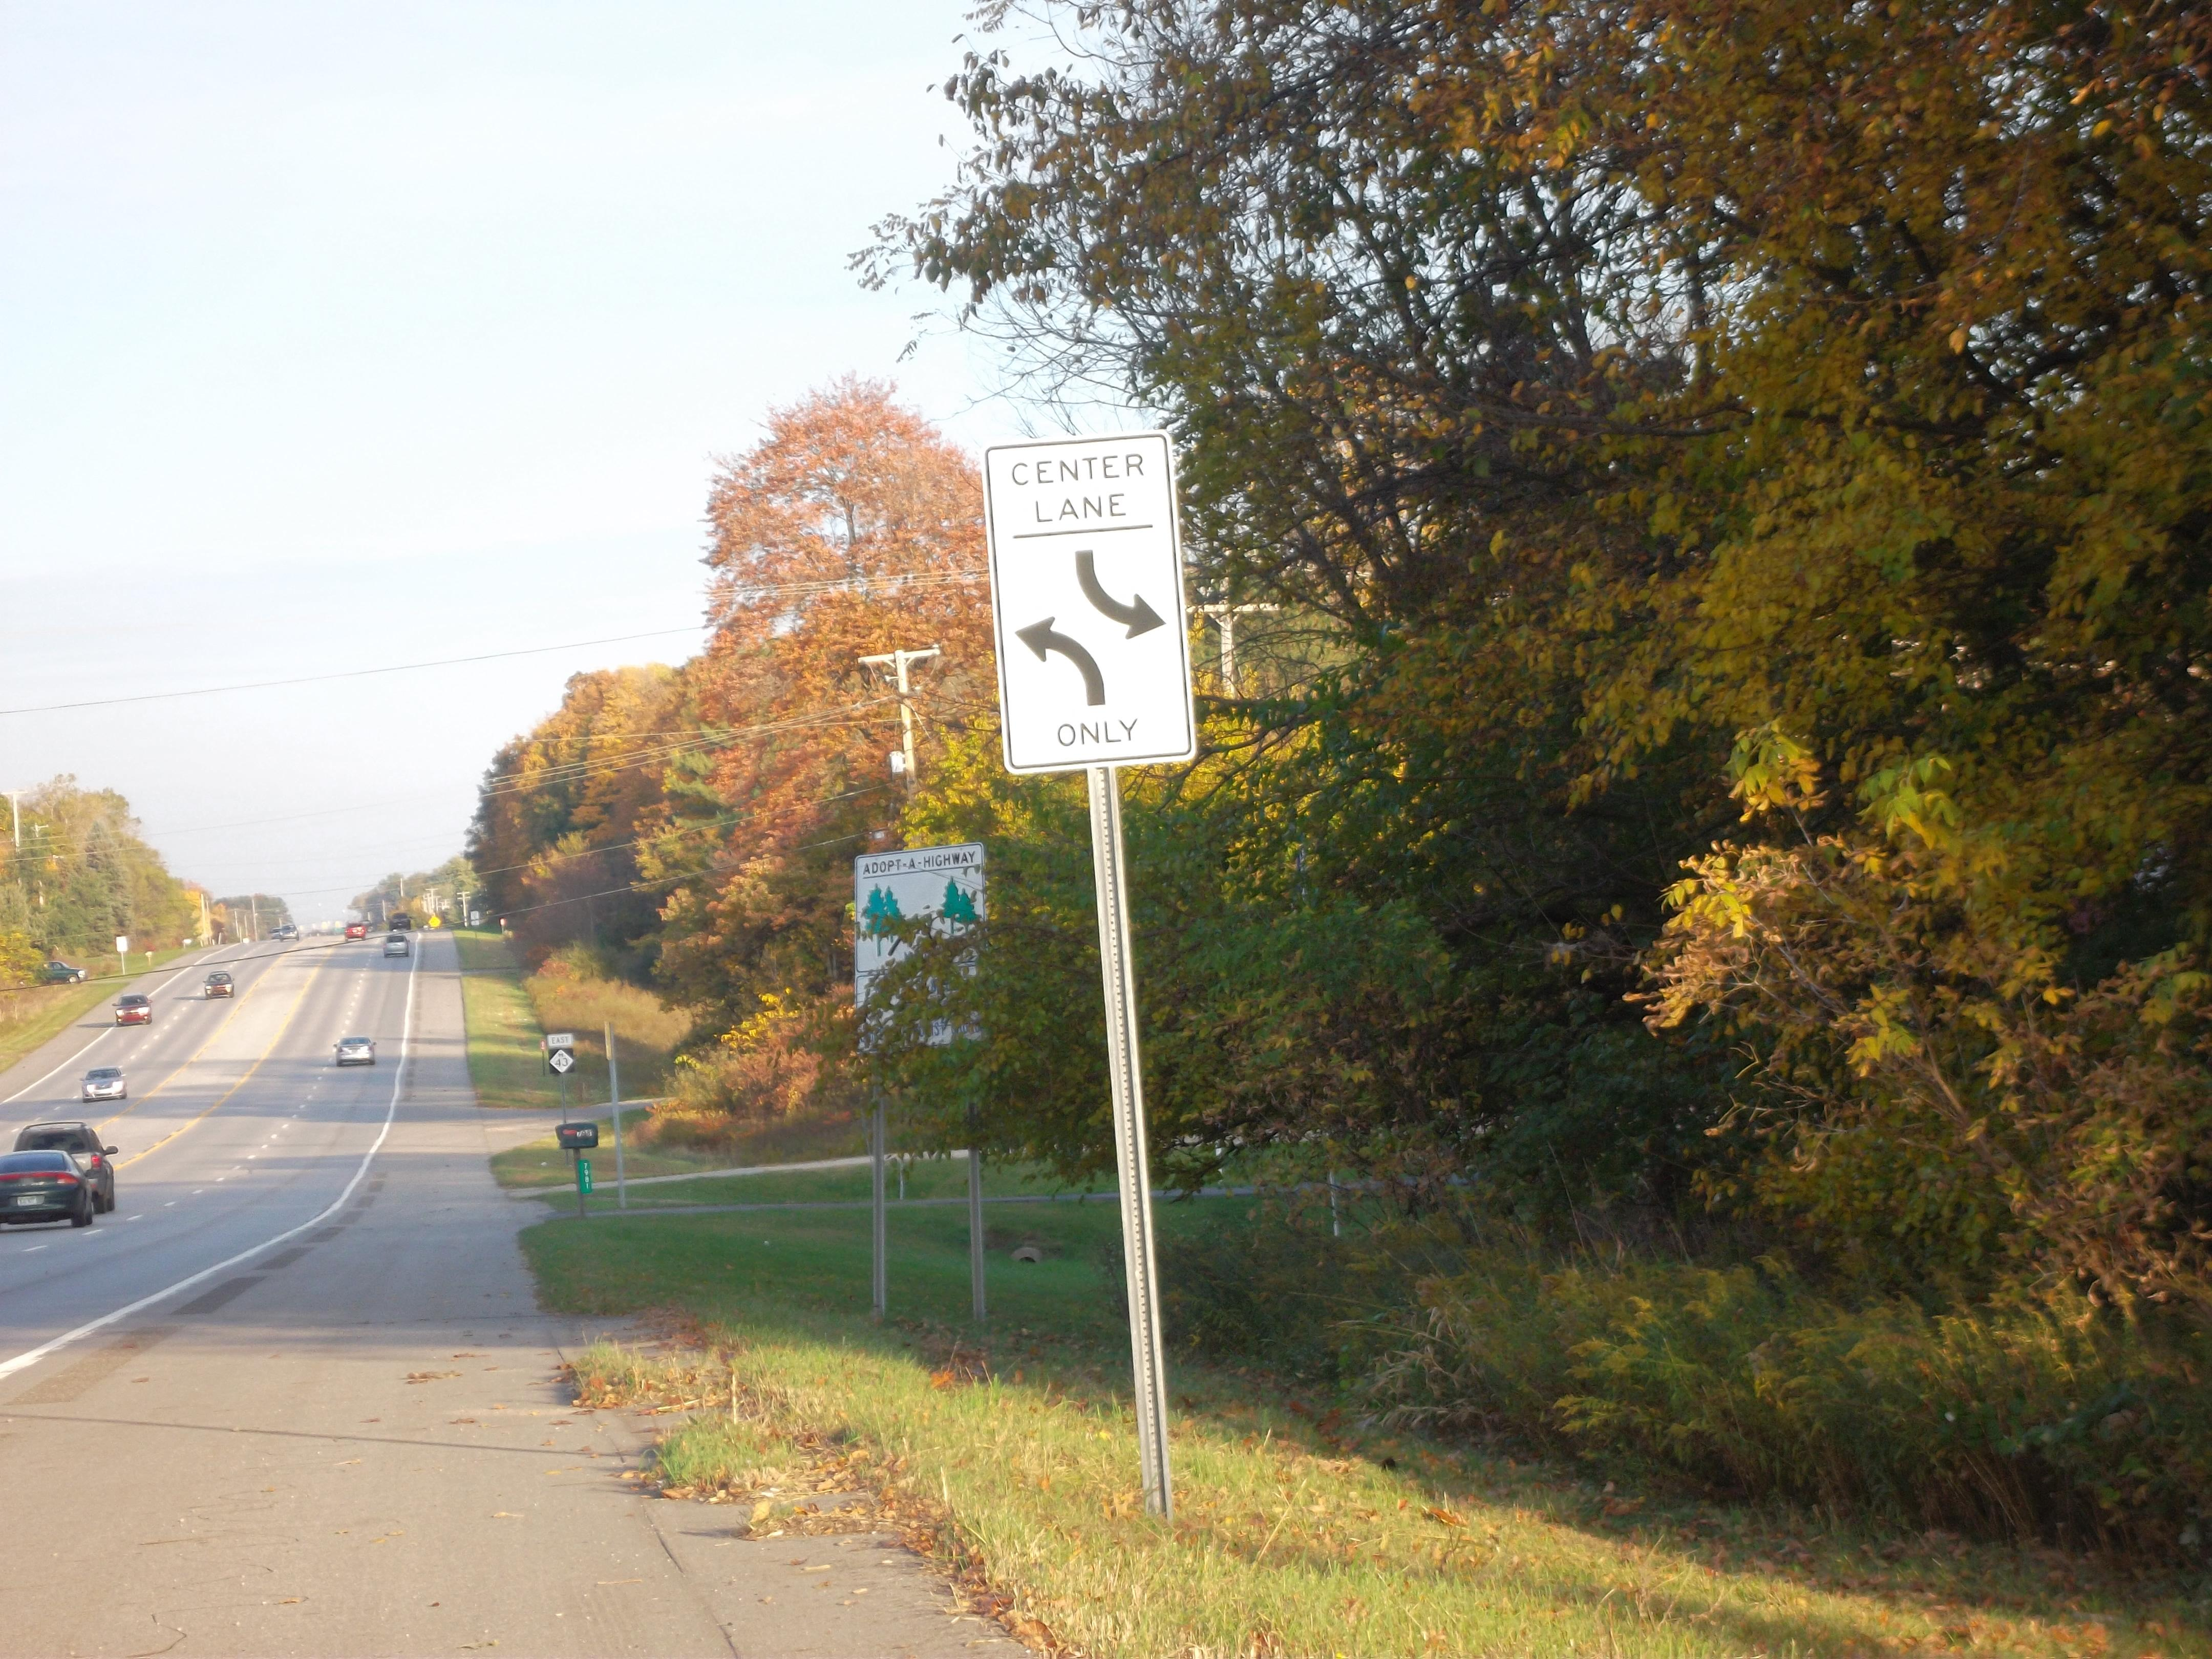regulatory: (974, 425, 1193, 779)
